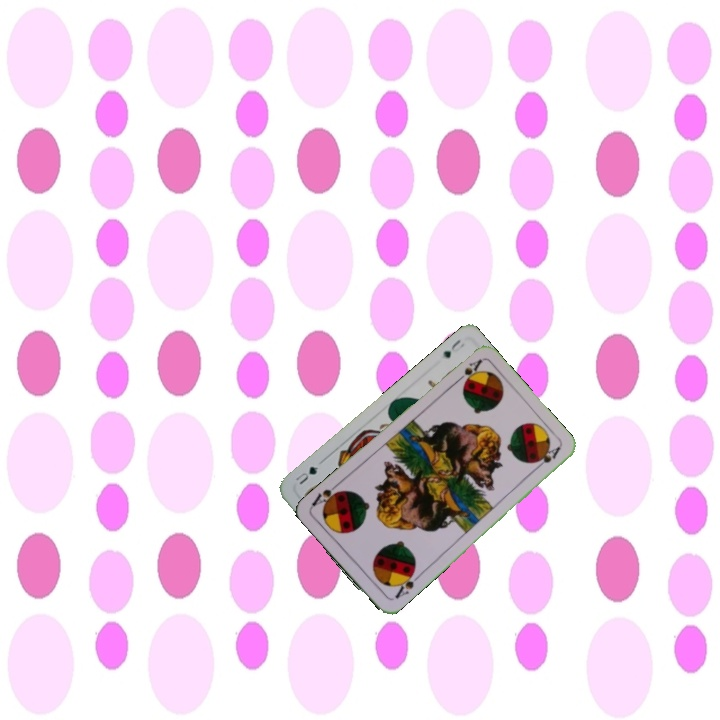GU: (438, 335, 467, 361)
SA: (391, 566, 423, 601), (451, 355, 485, 386)
